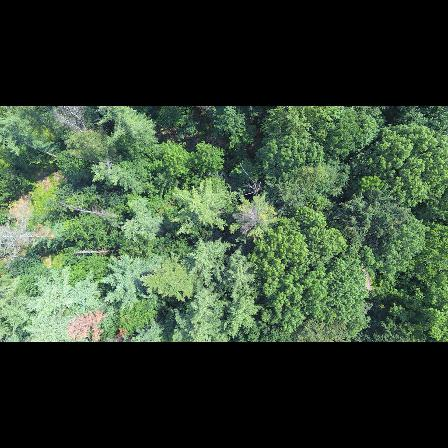Dead: (48, 106, 98, 136)
